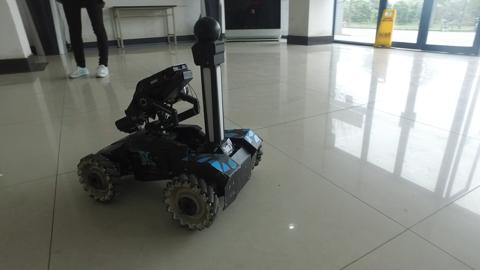chariot: (76, 15, 262, 232)
